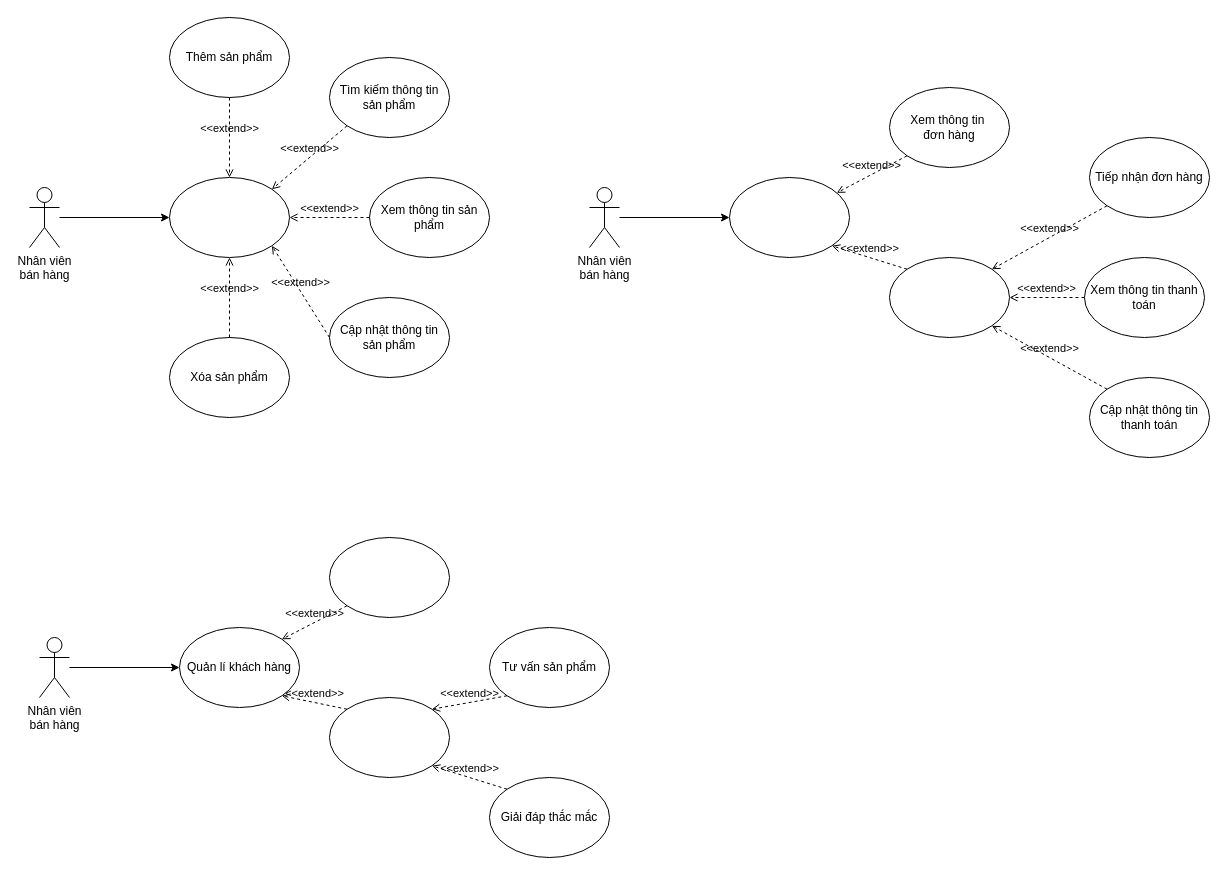
This 1227x875 diagram has some shape labels left out. Each missing label, with the centre of its shape:
"Chăm sóc khách hàng" belongs at (x=389, y=737).
"Duyệt đơn hàng" belongs at (x=949, y=297).
"Quản lí sản phẩm" belongs at (x=229, y=217).
"Quản lí đơn hàng" belongs at (x=789, y=217).
"Xem thông tin khách hàng" belongs at (x=389, y=577).
